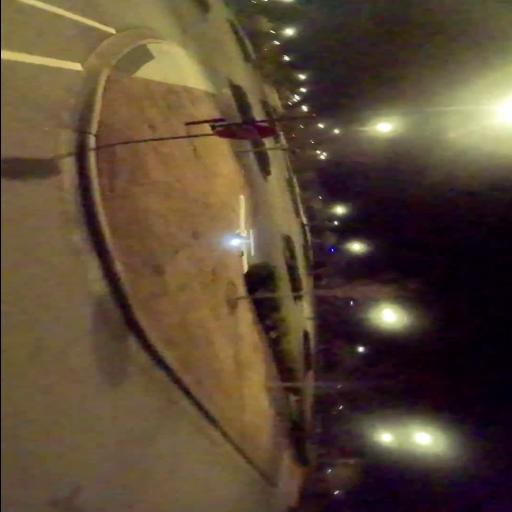uav: (225, 194, 255, 276)
